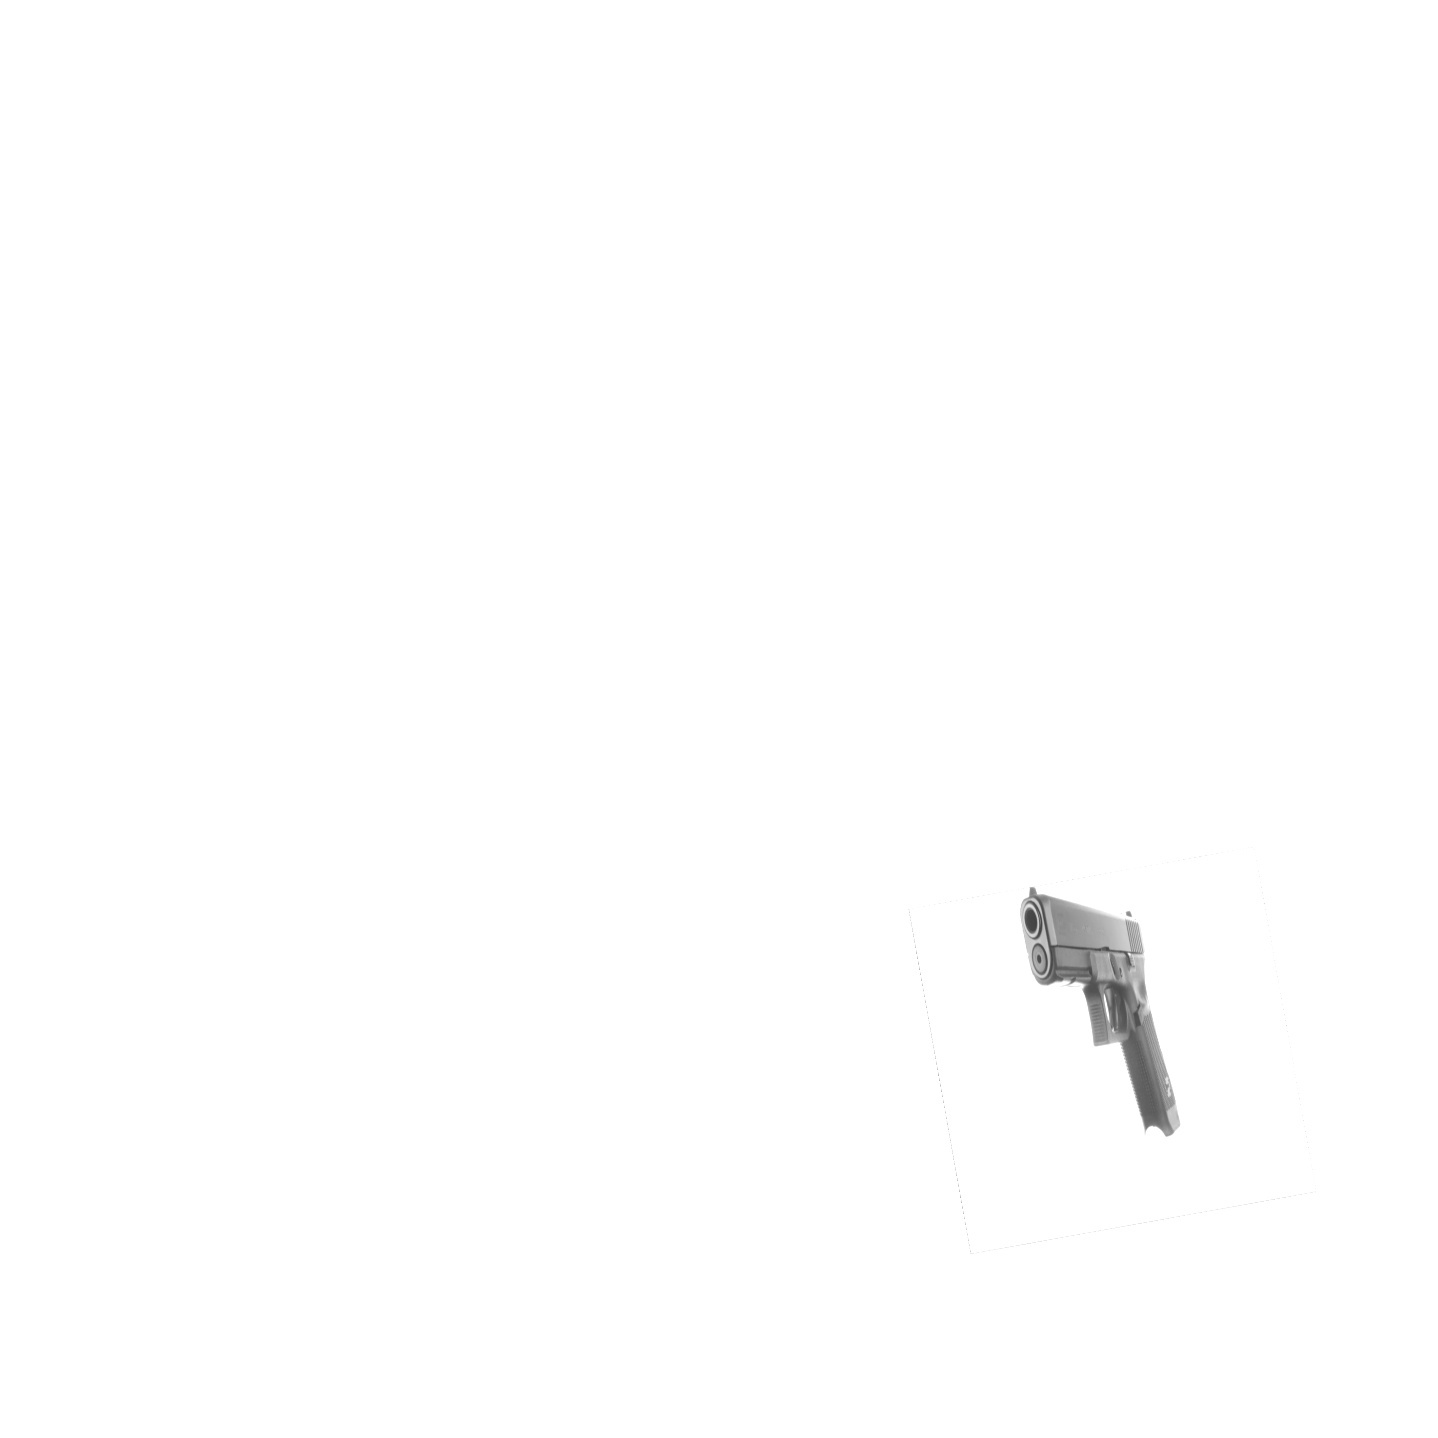gun: (1017, 884, 1200, 1140)
